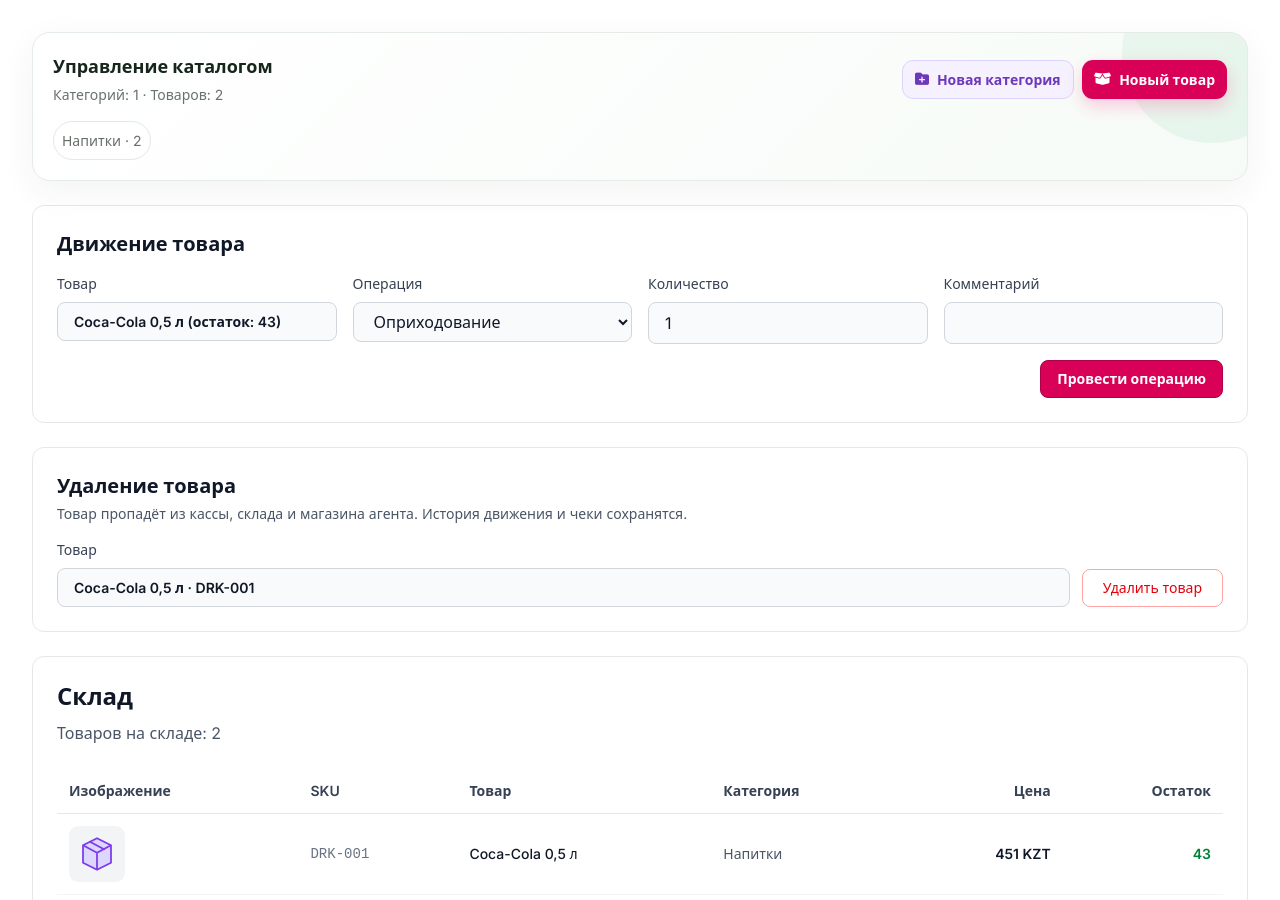
склад: деньги и операции › выбор товара с клавиатуры: стрелки и Enter выбирают, Escape закрывает список (UI-10)
Expected: the text "Coca-Cola 0,5 л" is shown, [457,814,711,894]
Focus the dropdown labelled "Товар" below "Движение товара" at [197, 322], box [57,302,336,341]
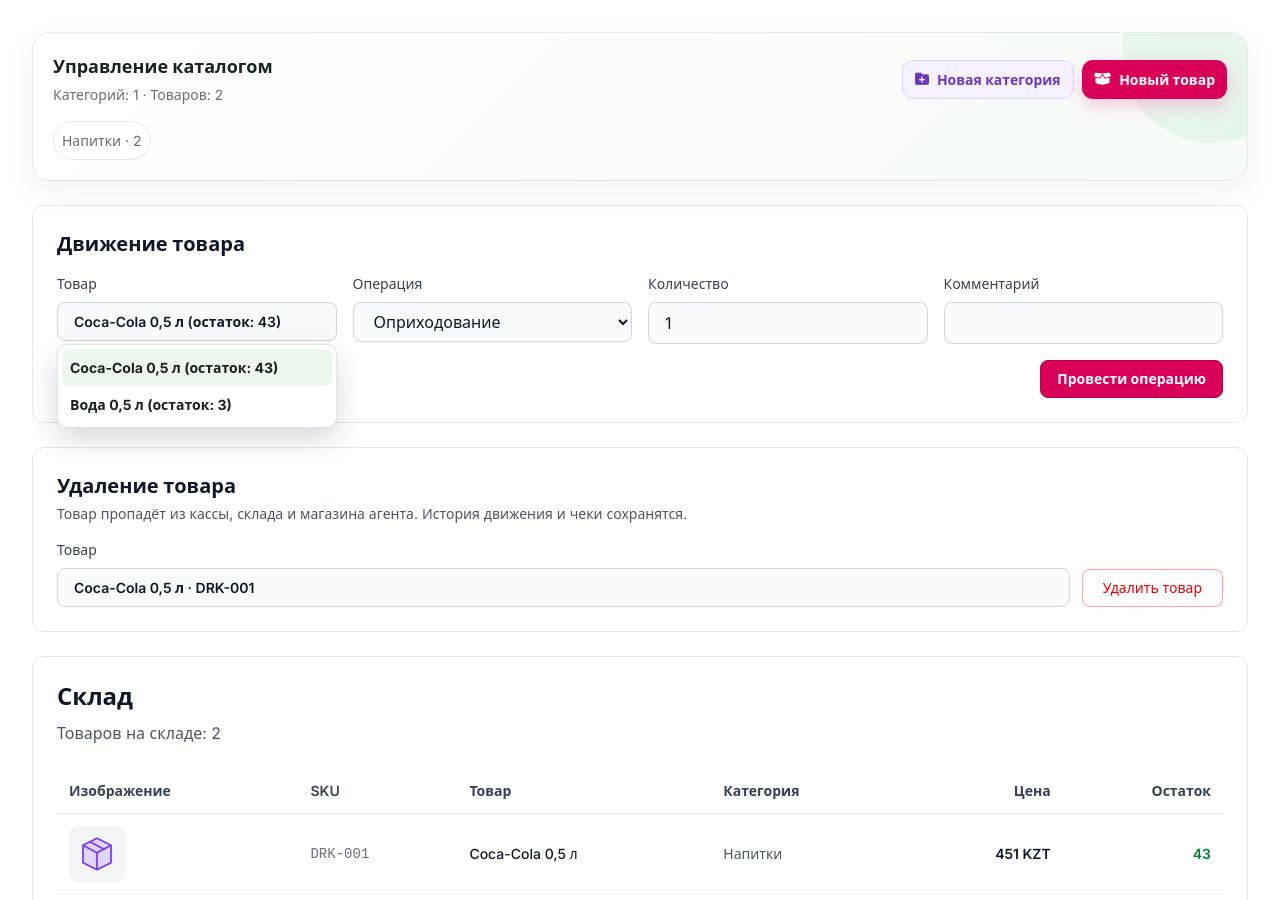
Expected: the number of options is 2, [62,349,332,386]; [62,386,332,423]
Press Escape in the dropdown labelled "Товар" below "Движение товара", box [57,302,336,341]
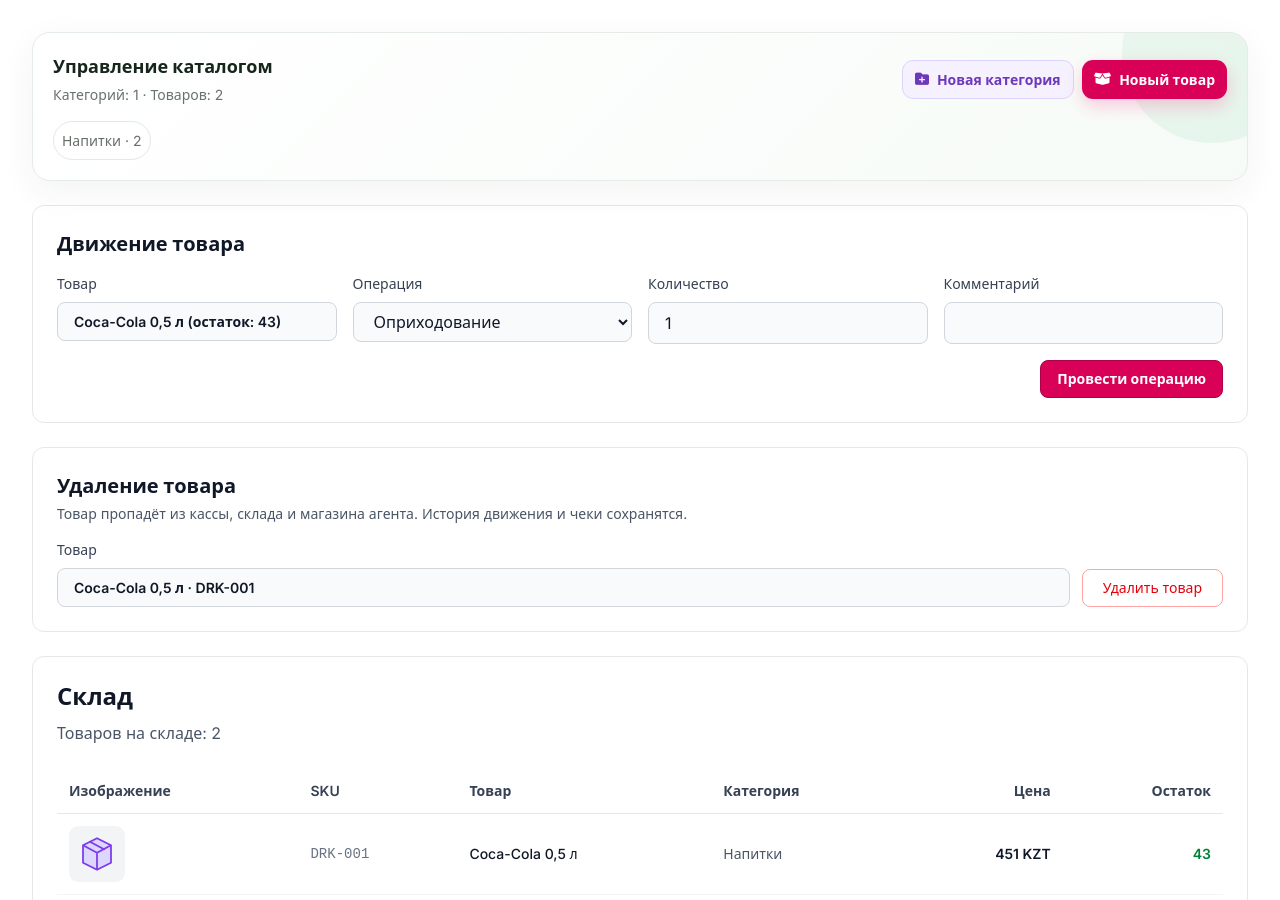
Press ArrowDown in the dropdown labelled "Товар" below "Движение товара", box [57,302,336,341]
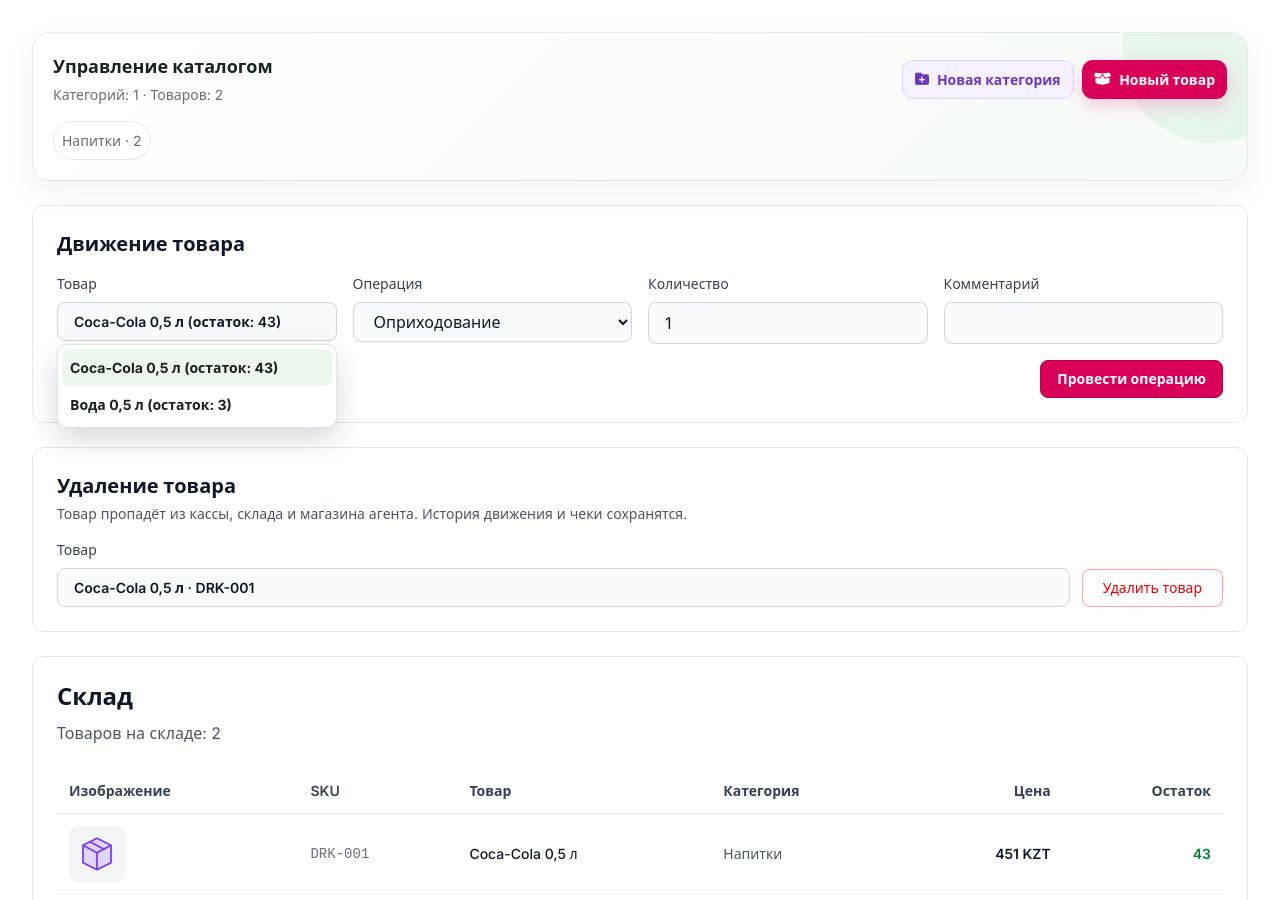
Press ArrowDown in the dropdown labelled "Товар" below "Движение товара", box [57,302,336,341]
Press ArrowDown in the dropdown labelled "Товар" below "Движение товара", box [57,302,336,341]
Press Enter in the dropdown labelled "Товар" below "Движение товара", box [57,302,336,341]
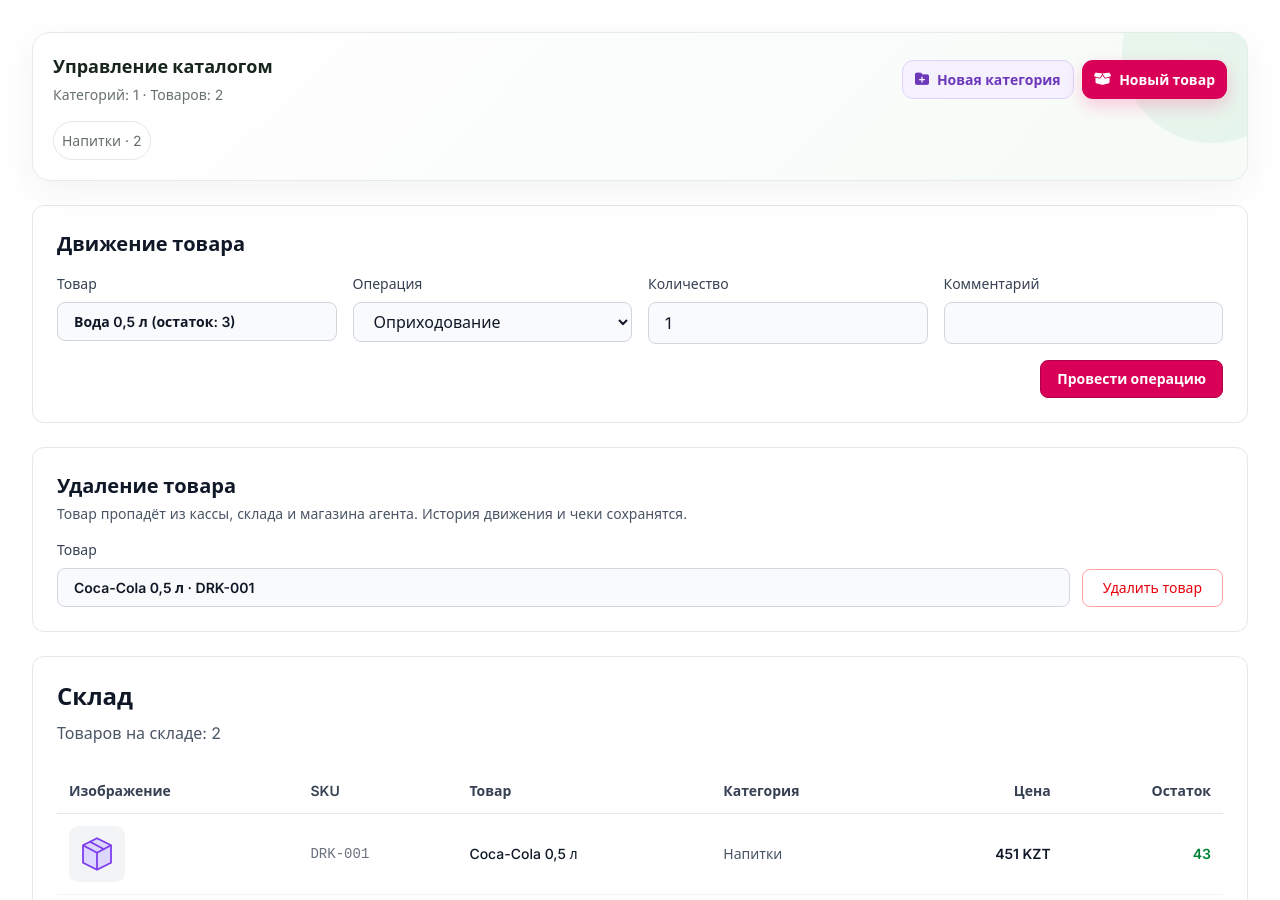
Expected: the dropdown labelled "Товар" below "Движение товара" holds "Вода 0,5 л (остаток: 3)", [57,302,336,341]
